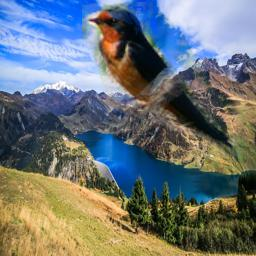Swallow: (82, 2, 247, 163)
